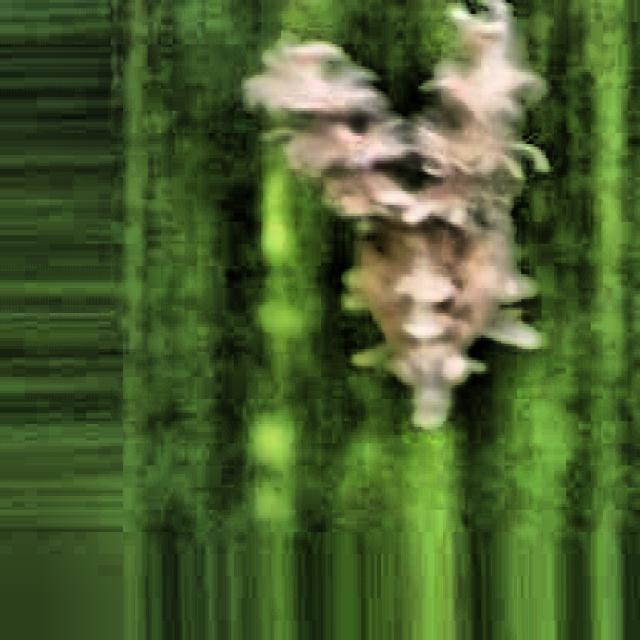Pyrilla-perpusilla: (226, 0, 572, 485)
